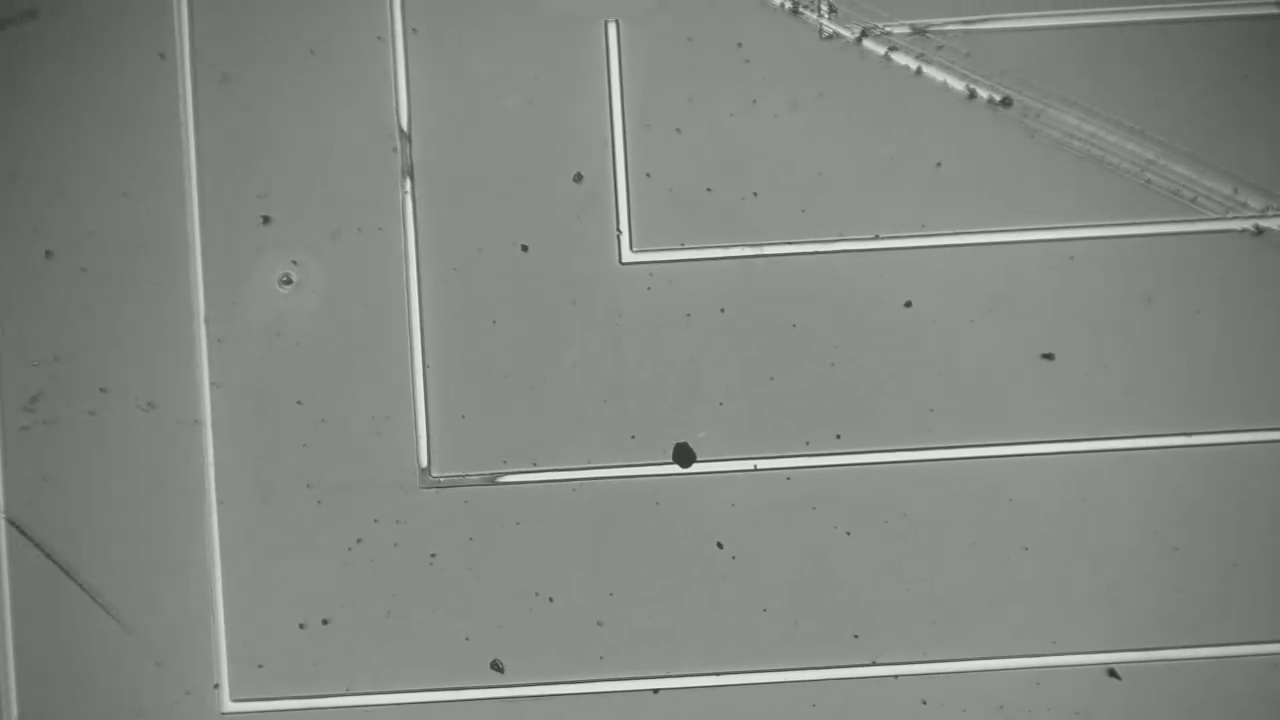edge_bite: (610, 222, 642, 241)
gray_line: (381, 108, 432, 203), (407, 465, 516, 494), (412, 455, 439, 499)
scratch: (780, 8, 1274, 225), (7, 523, 152, 649)
stains_enbedded: (666, 434, 707, 485)
